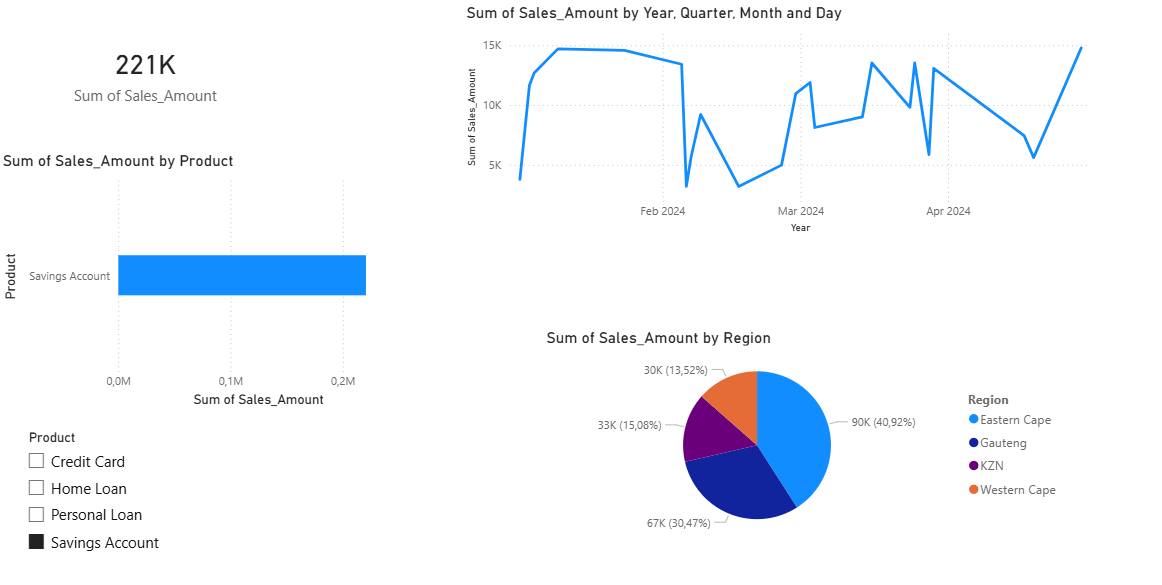

Layout of this report page (visuals, bound fields, positions):
{"tool":"powerbi","page":{"name":"Page 1","canvas":[1280,720],"ordinal":0},"visuals":[{"type":"card","fields":{"Values":["Sum(beginner_bi_bank_sales_dataset.Sales_Amount)"]},"box":[9.4,0,298.9,169.6],"z":0},{"type":"clusteredBarChart","fields":{"Category":["beginner_bi_bank_sales_dataset.Product"],"Y":["Sum(beginner_bi_bank_sales_dataset.Sales_Amount)"]},"box":[0,169.6,451,280],"z":1000},{"type":"lineChart","fields":{"Category":["beginner_bi_bank_sales_dataset.Date.Variation.Date Hierarchy.Year","beginner_bi_bank_sales_dataset.Date.Variation.Date Hierarchy.Quarter","beginner_bi_bank_sales_dataset.Date.Variation.Date Hierarchy.Month","beginner_bi_bank_sales_dataset.Date.Variation.Date Hierarchy.Day"],"Y":["Sum(beginner_bi_bank_sales_dataset.Sales_Amount)"]},"box":[499.5,9.4,697.4,253.1],"z":2000},{"type":"pieChart","fields":{"Category":["beginner_bi_bank_sales_dataset.Region"],"Y":["Sum(beginner_bi_bank_sales_dataset.Sales_Amount)"]},"box":[585.6,359.4,568.1,234.2],"z":3000},{"type":"slicer","fields":{"Values":["beginner_bi_bank_sales_dataset.Product"]},"box":[20.2,464.5,451,227.5],"z":4000}]}

Visuals, with their boxes on the page's 1280x720 design canvas (x1, y1, x2, y2). These are canvas units, not pixel positions in the 1162x585 screenshot, which may show the page scaled, cropped or inside an application window:
card - Sum(beginner_bi_bank_sales_dataset.Sales_Amount): (left=9, top=0, right=308, bottom=170)
clusteredBarChart - beginner_bi_bank_sales_dataset.Product x Sum(beginner_bi_bank_sales_dataset.Sales_Amount): (left=0, top=170, right=451, bottom=450)
lineChart - beginner_bi_bank_sales_dataset.Date.Variation.Date Hierarchy.Year x beginner_bi_bank_sales_dataset.Date.Variation.Date Hierarchy.Quarter: (left=500, top=9, right=1197, bottom=262)
pieChart - beginner_bi_bank_sales_dataset.Region x Sum(beginner_bi_bank_sales_dataset.Sales_Amount): (left=586, top=359, right=1154, bottom=594)
slicer - beginner_bi_bank_sales_dataset.Product: (left=20, top=464, right=471, bottom=692)
